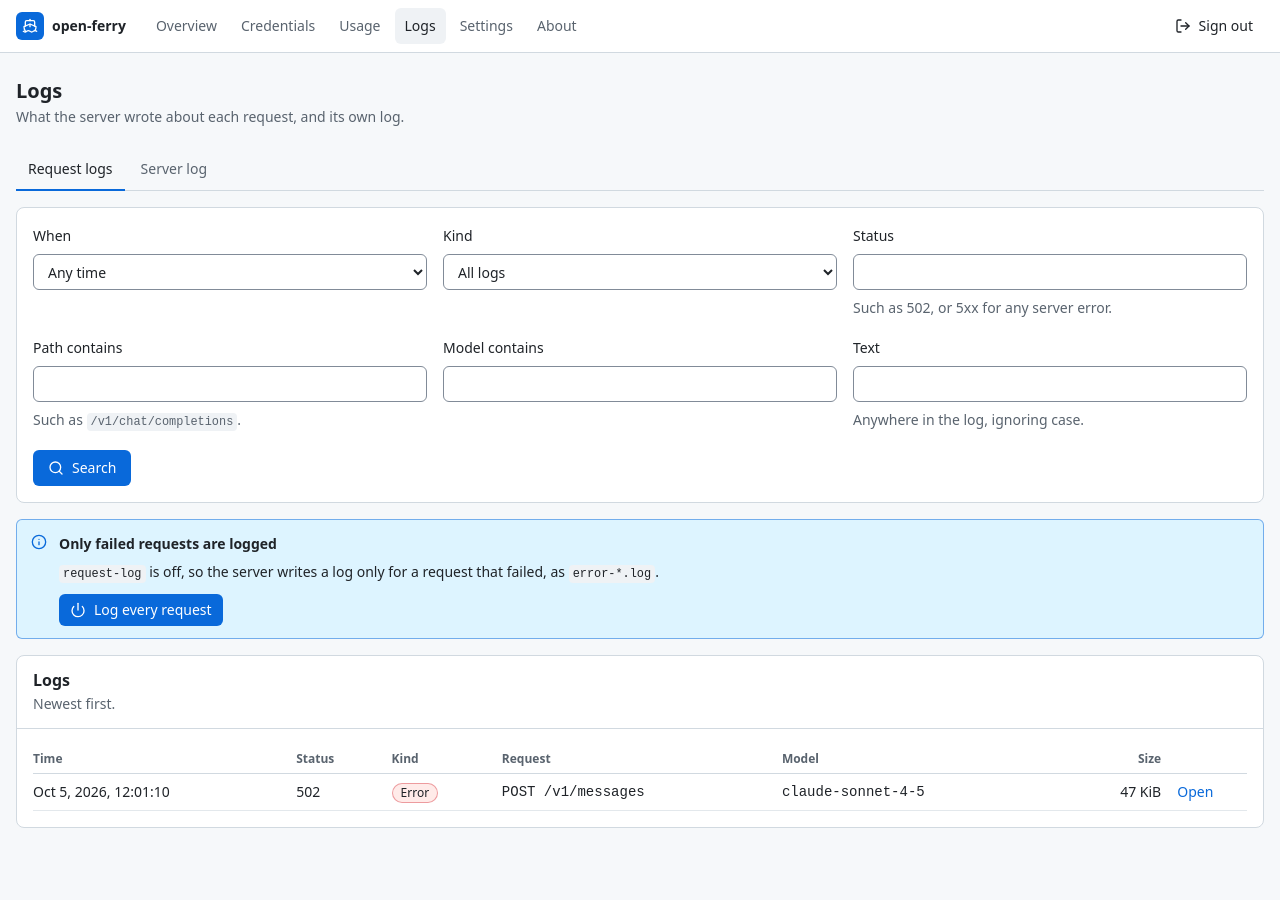
Scenario: the request log search › says only failed requests are logged while request-log is off, and turns it on
Check: the text "Only failed requests are logged" is shown, box [59,534,277,553]
What coordinates should you click on to do the following:
click the button "Log every request"
I would click on:
 (141, 610)
Its box is [59,594,223,626].
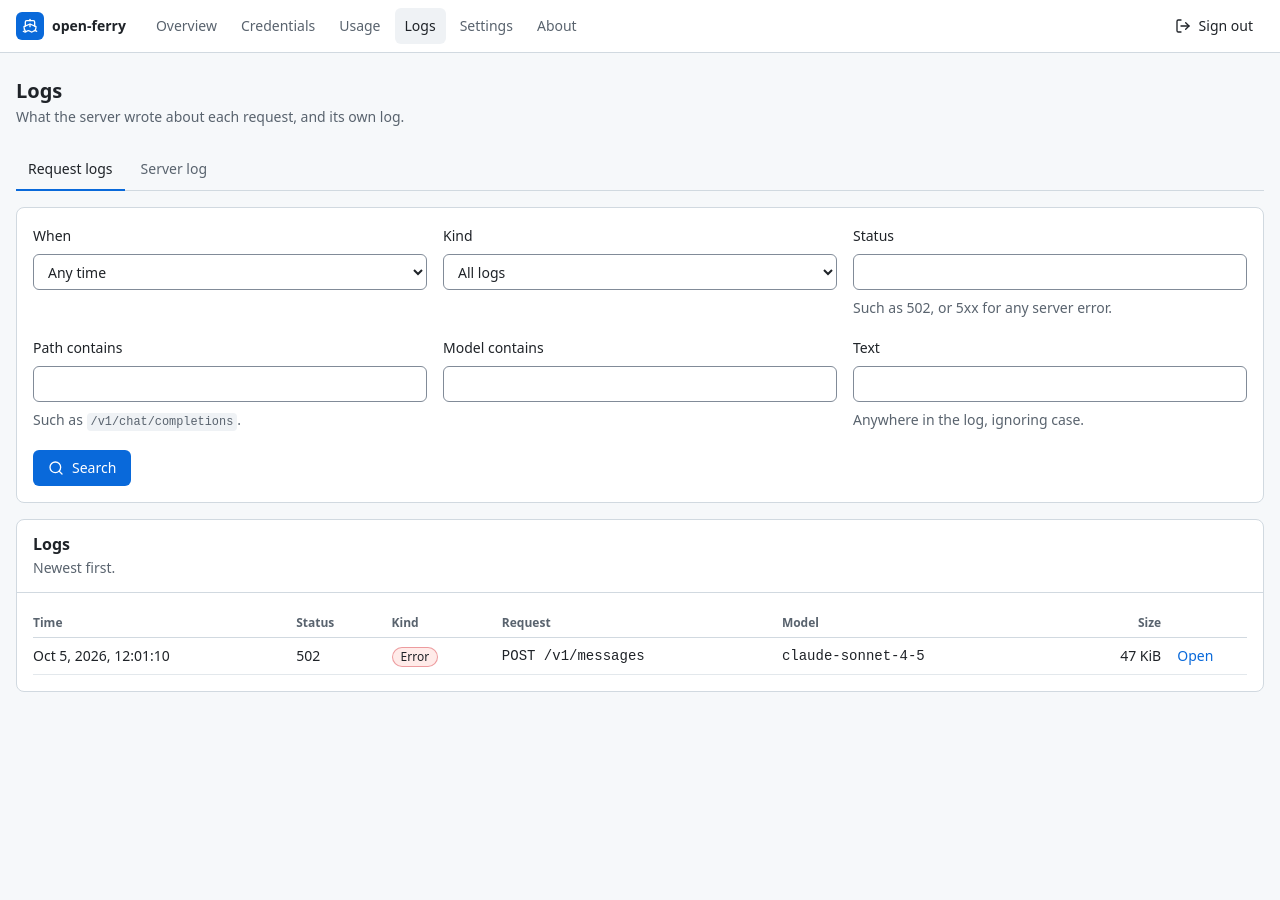
Check: the text "Only failed requests are logged" is gone
